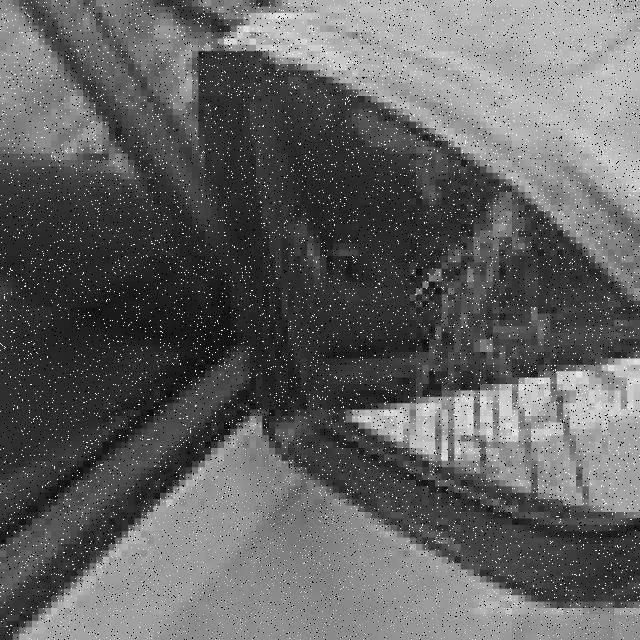Sidemirror-Damage: (179, 1, 634, 584)
